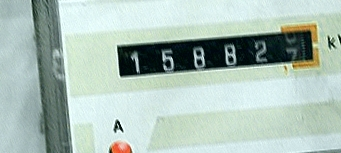1: (128, 47, 142, 74)
2: (252, 37, 270, 63)
5: (159, 45, 175, 72)
7: (284, 43, 300, 62)
8: (190, 43, 208, 69), (222, 40, 239, 66)
screen: (106, 16, 329, 90)
